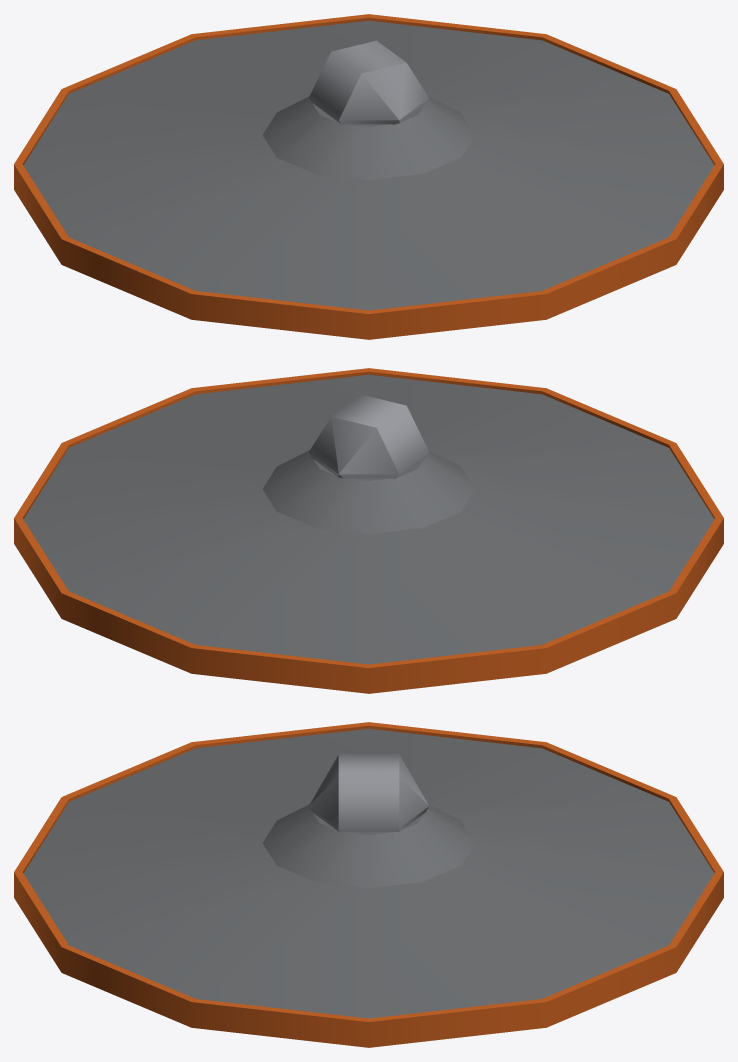
The model's file is po4_foot.obj.
3 views of the same model, one above another, from view 1: azimuth 30°, elevation 25°; view 2: azimuth 150°, elevation 25°; view 3: azimuth 270°, elevation 25° (orthographic).
Parts seen in each view (by area): view 1: po4_foot; view 2: po4_foot; view 3: po4_foot.
Boxes of the visible parts, x1=… form: po4_foot: x1=14, y1=14, x2=723, y2=339; po4_foot: x1=14, y1=368, x2=723, y2=693; po4_foot: x1=14, y1=722, x2=723, y2=1047.
Bounding box in the file's own units: 2 × 0.4425 × 2.
